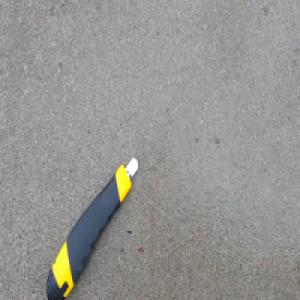Cutter: (45, 154, 138, 297)
